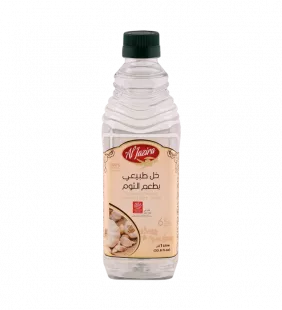AL JAZIRA: (92, 20, 189, 291)
